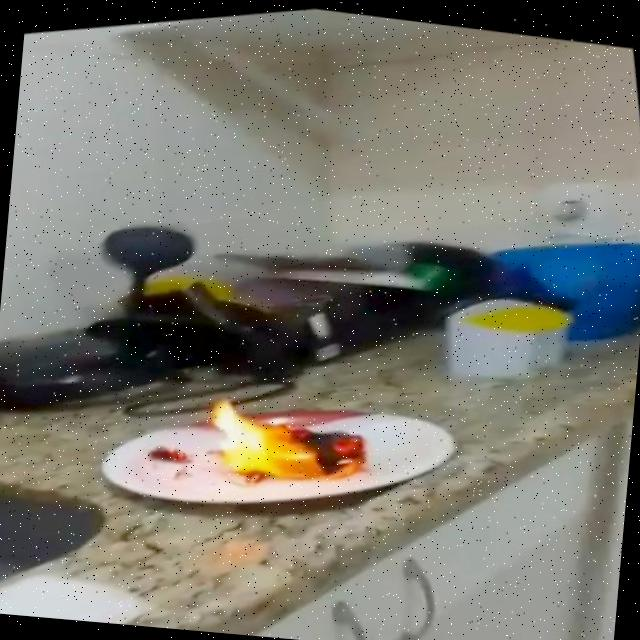fire: (191, 362, 378, 509)
